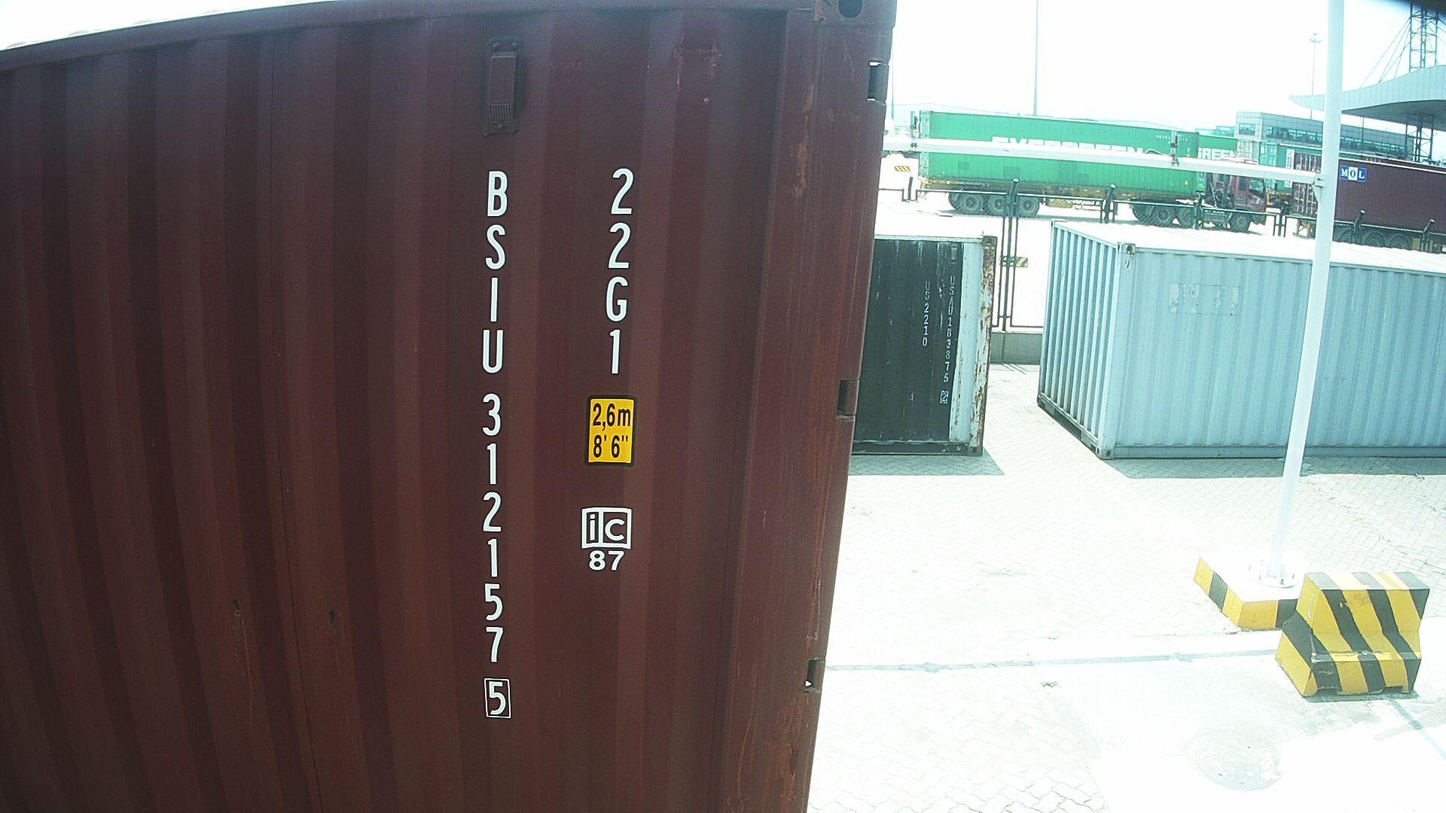container-numbers: (468, 167, 514, 724), (595, 162, 644, 381)
